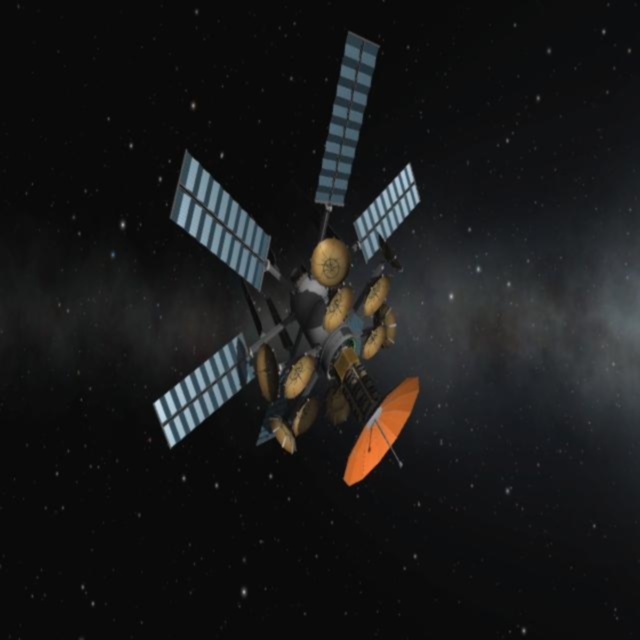medium_debris: (137, 23, 467, 504)
